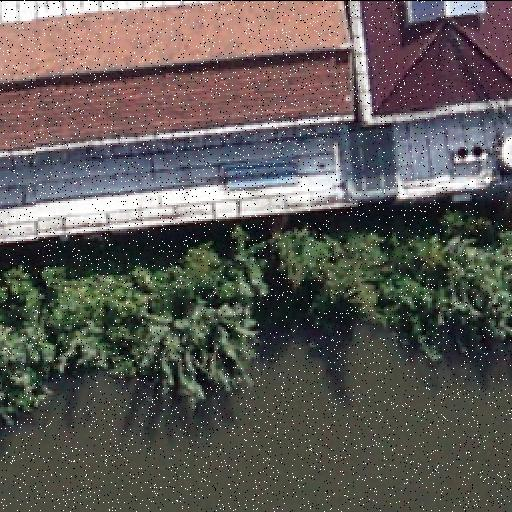solar-panel: (408, 0, 480, 24)
